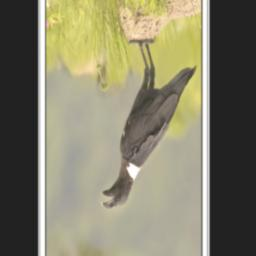Crow: (100, 36, 198, 211)
